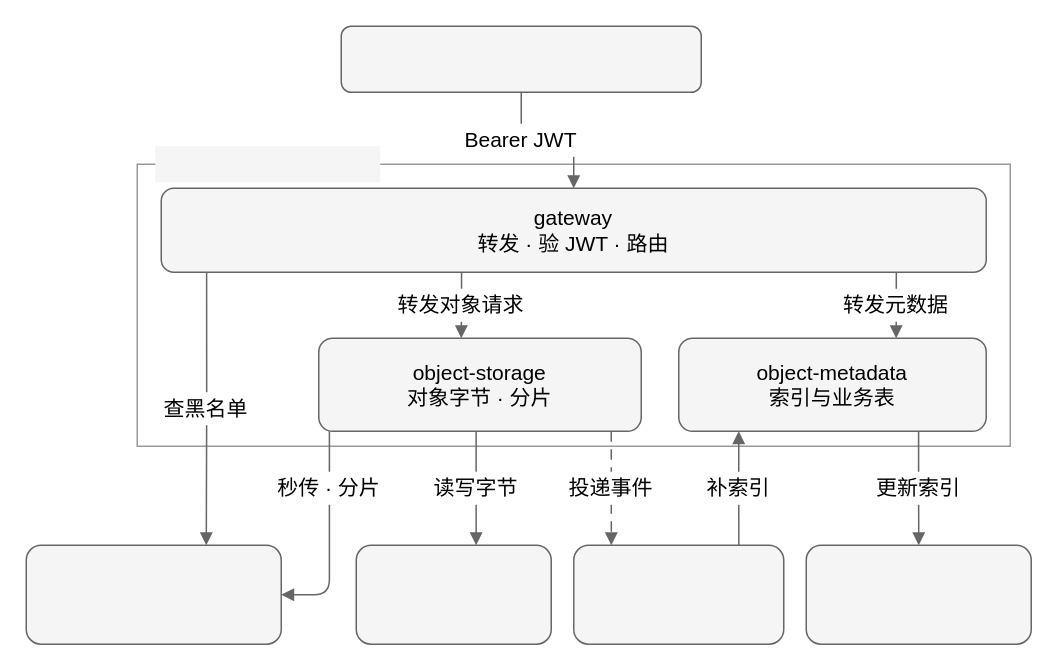
Image size: 1058x671. Some labels were removed from this diagram. The centre of each missing label's shape, as x and y in pixels:
"cloud-disk 系统边界" goes at [267,164].
"MySQL outbox · 索引 · 业务表" goes at [918,594].
"RabbitMQ" goes at [678,594].
"Redis Cluster" goes at [153,594].
"对象存储后端 MinIO/本地盘/OSS" goes at [453,594].
"浏览器 / admin-ui" goes at [520,58].
